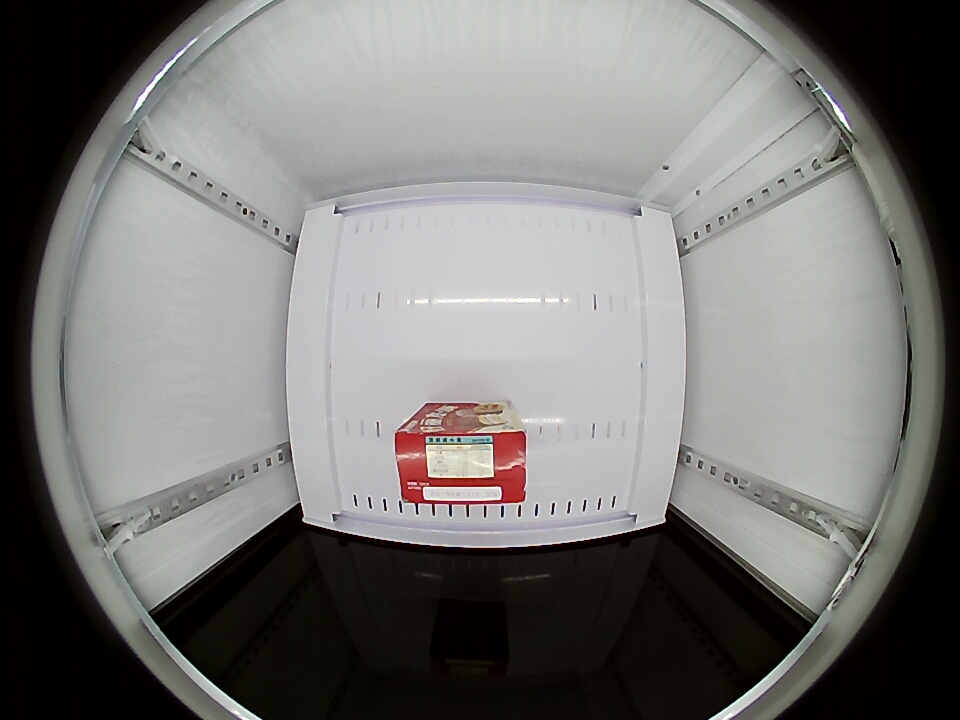haoliyou: (394, 407, 529, 505)
